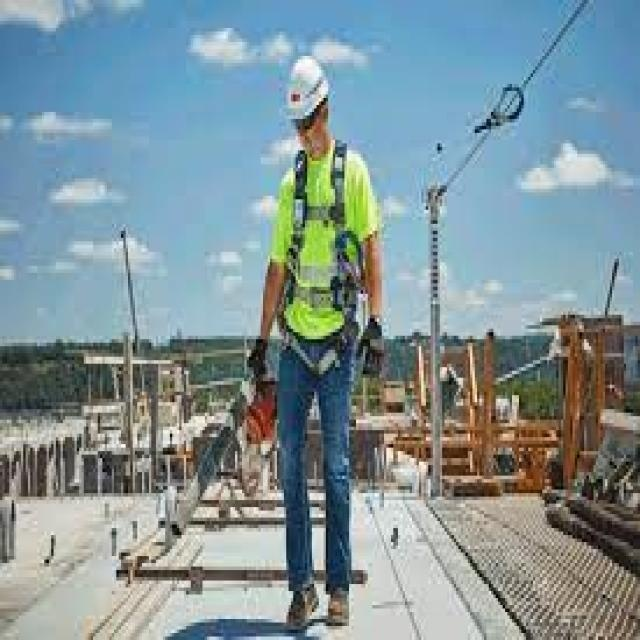Arnes_seguridad: (268, 146, 387, 406)
